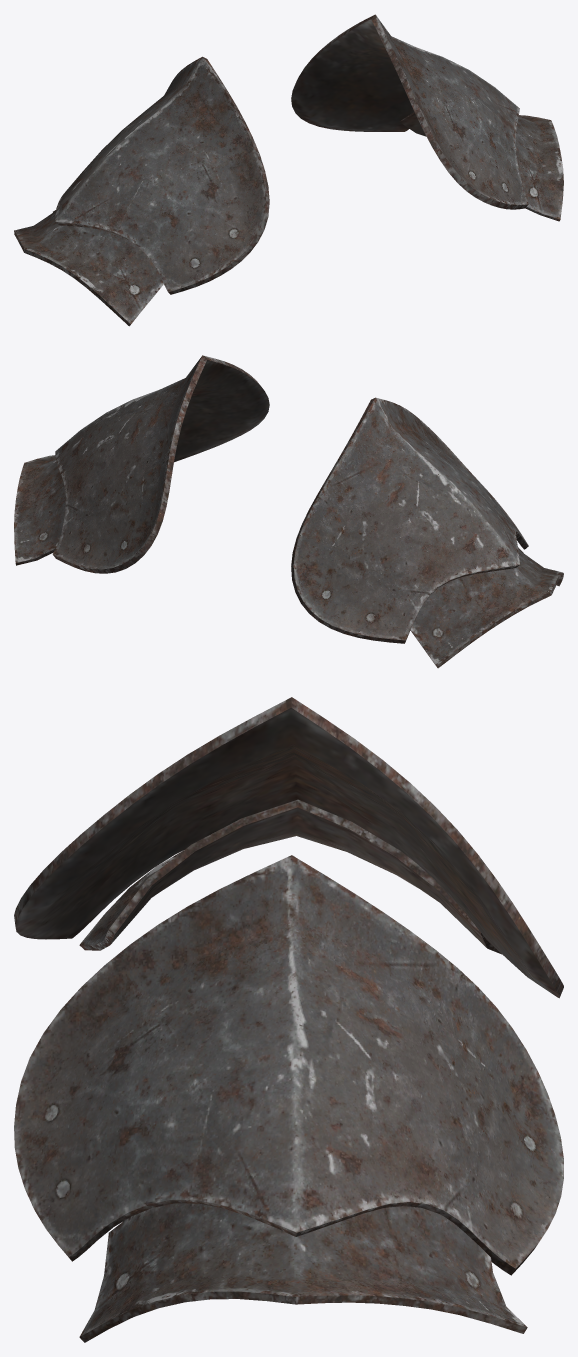
The model's file is sk_gb_uruk_pauldron_heavy_d.fbx.
3 renders of one model, top to bottom at view 1: azimuth 30°, elevation 25°; view 2: azimuth 150°, elevation 25°; view 3: azimuth 270°, elevation 25°, orthographic. The views are drawn at different scales.
Parts seen in each view (by area): view 1: sk_gb_uruk_pauldron_heavy_d; view 2: sk_gb_uruk_pauldron_heavy_d; view 3: sk_gb_uruk_pauldron_heavy_d.
Boxes of the visible parts, x1=… form: sk_gb_uruk_pauldron_heavy_d: x1=14, y1=14, x2=563, y2=326; sk_gb_uruk_pauldron_heavy_d: x1=14, y1=355, x2=563, y2=668; sk_gb_uruk_pauldron_heavy_d: x1=14, y1=697, x2=563, y2=1342.
Bounding box in the file's own units: 0.7051 × 0.3402 × 0.2529.
1 material, 1 textured.
